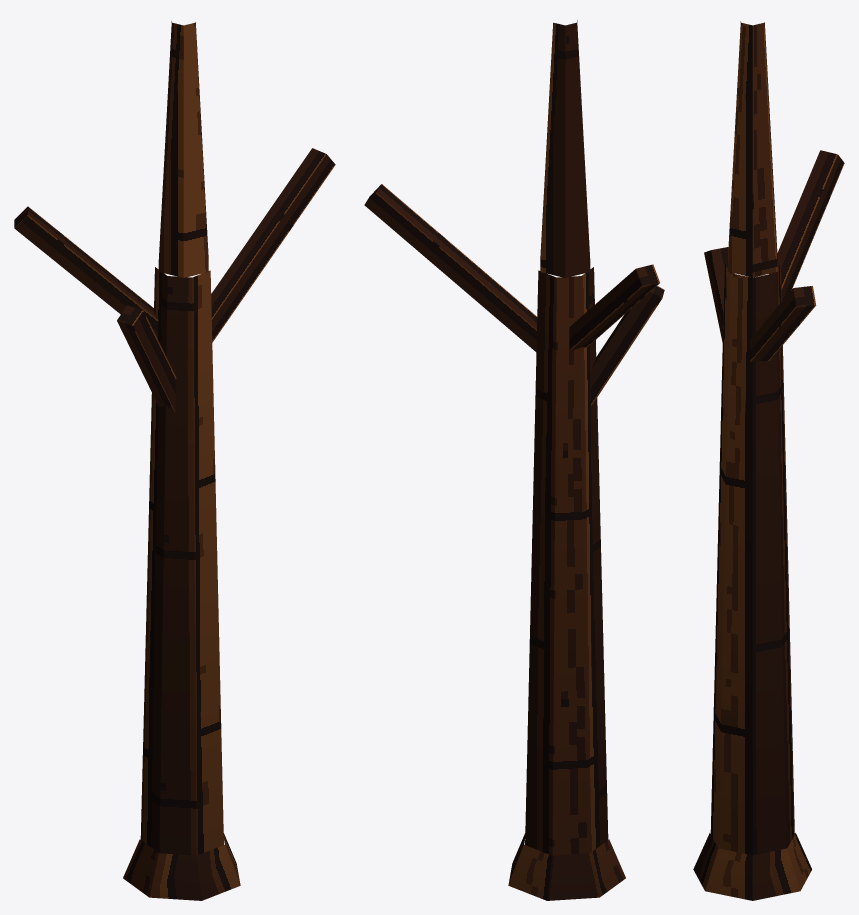
The model's file is birch_3_trunk.glb.
3 views of the same model, side by side, from view 1: azimuth 30°, elevation 25°; view 2: azimuth 150°, elevation 25°; view 3: azimuth 270°, elevation 25° (orthographic).
Parts seen in each view (by area): view 1: birch_3_trunk; view 2: birch_3_trunk; view 3: birch_3_trunk.
Boxes of the visible parts, x1,y1,x2,y2 form: birch_3_trunk: (14,21,335,900); birch_3_trunk: (364,20,664,900); birch_3_trunk: (693,21,844,900).
Bounding box in the file's own units: 2.08 × 5.57 × 0.8931.
1 material, 1 textured.
